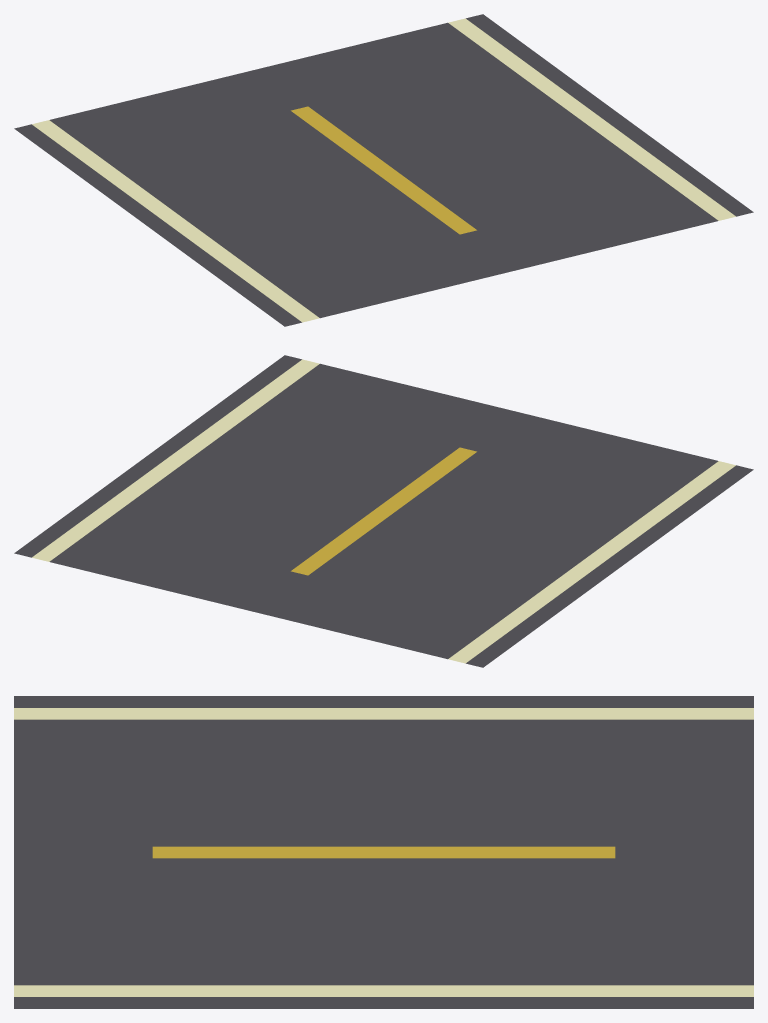
File: RoadSquare.fbx
The picture shows the model from 3 angles, top to bottom: view 1: azimuth 30°, elevation 25°; view 2: azimuth 150°, elevation 25°; view 3: azimuth 270°, elevation 25°; orthographic projection. The views are drawn at different scales.
Visible parts, largest first — view 1: RoadSquare; view 2: RoadSquare; view 3: RoadSquare.
Boxes of the visible parts, x1,y1,x2,y2 form: RoadSquare: [14, 14, 753, 326]; RoadSquare: [14, 355, 753, 667]; RoadSquare: [14, 696, 753, 1008].
Bounding box in the file's own units: 400 × 8.88e-14 × 400.
